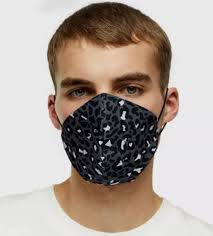with-mask: (44, 2, 184, 190)
